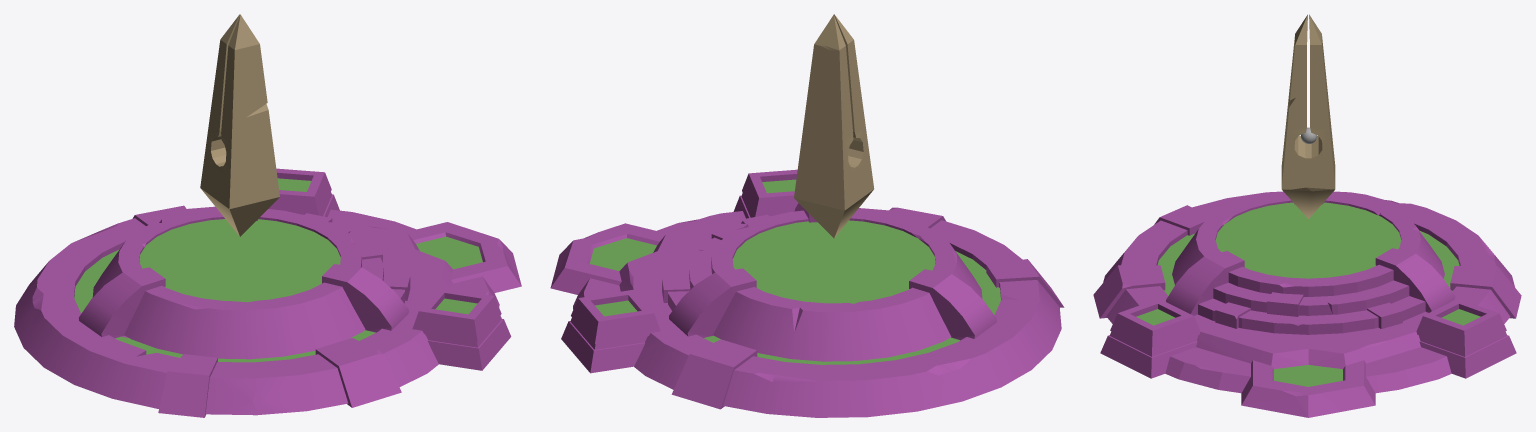
File: SM_Module_Memoriel.fbx
The picture shows the model from 3 angles, left to right: view 1: azimuth 30°, elevation 25°; view 2: azimuth 150°, elevation 25°; view 3: azimuth 270°, elevation 25°; orthographic projection. The views are drawn at different scales.
Parts seen in each view (by area): view 1: Top Plateform, Floating pillar; view 2: Top Plateform, Floating pillar; view 3: Top Plateform, Floating pillar.
Boxes of the visible parts, x1=… form: Top Plateform: x1=14, y1=168, x2=521, y2=417; Floating pillar: x1=200, y1=14, x2=279, y2=236; Top Plateform: x1=550, y1=169, x2=1064, y2=417; Floating pillar: x1=794, y1=14, x2=874, y2=238; Top Plateform: x1=1093, y1=191, x2=1521, y2=417; Floating pillar: x1=1281, y1=14, x2=1335, y2=218.
Size of what is drawn, in the model's own units: 1322 by 827 by 1135.
